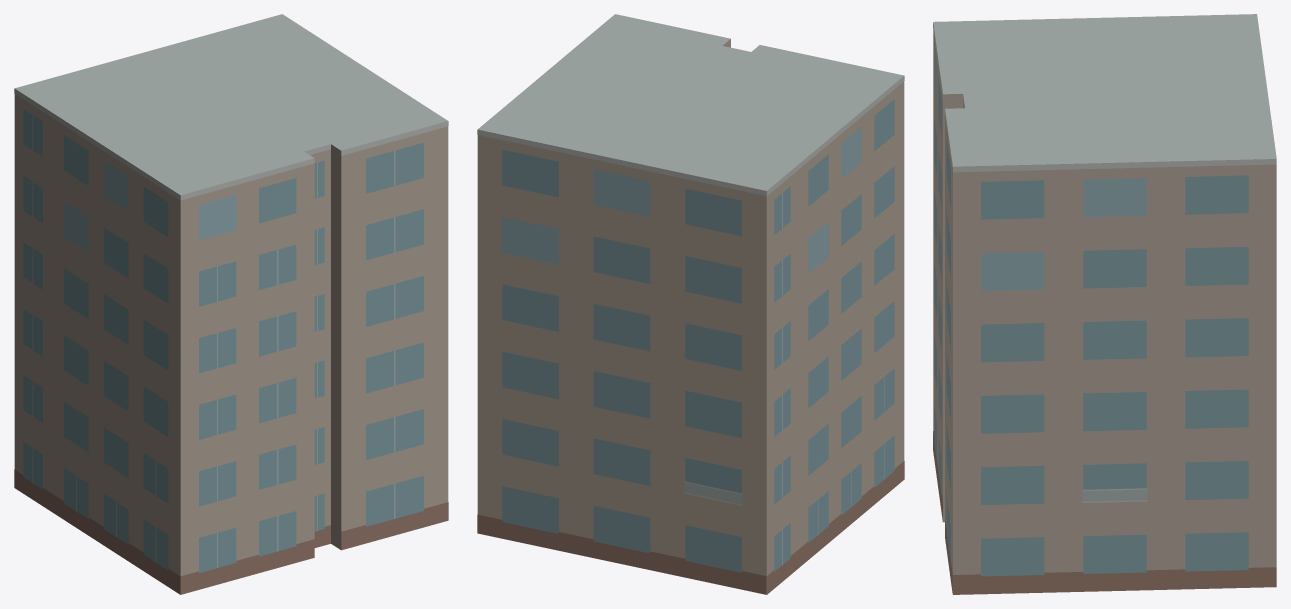
The model's file is survey-upis-32743358.glb.
The picture shows the model from 3 angles, left to right: view 1: azimuth 30°, elevation 25°; view 2: azimuth 150°, elevation 25°; view 3: azimuth 270°, elevation 25°; orthographic projection. The views are drawn at different scales.
Visible parts, largest first — view 1: survey-upis-32743358.tmp; view 2: survey-upis-32743358.tmp; view 3: survey-upis-32743358.tmp.
Boxes of the visible parts, x1,y1,x2,y2 form: survey-upis-32743358.tmp: [14, 14, 448, 594]; survey-upis-32743358.tmp: [477, 14, 904, 594]; survey-upis-32743358.tmp: [933, 14, 1276, 594].
Bounding box in the file's own units: 14.31 × 18.7 × 13.61.
